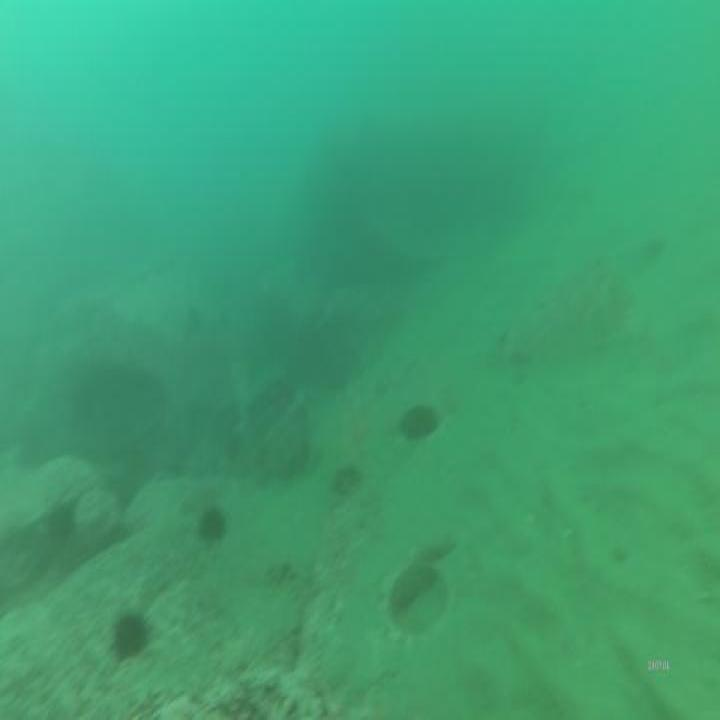echinus: (110, 606, 150, 663), (193, 500, 229, 550)
